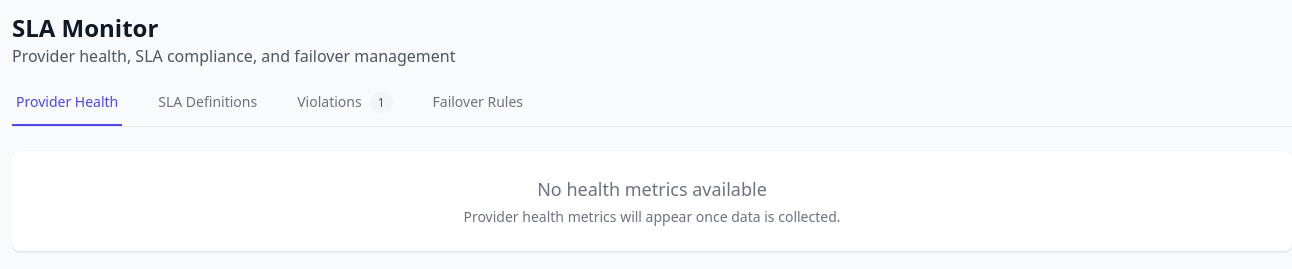
SLAMonitoring › renders resolved violation without resolve button
Click the button "Violations1" at (345, 109), box [293,92,396,126]
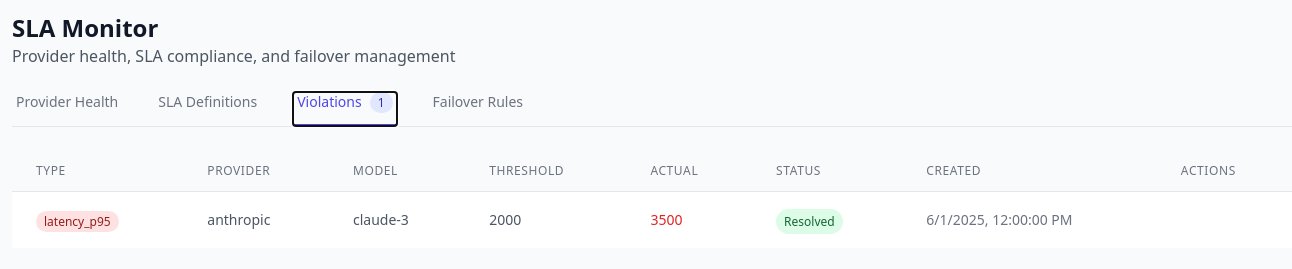
expect the text "Resolved" is shown: met, box [776,209,843,234]
